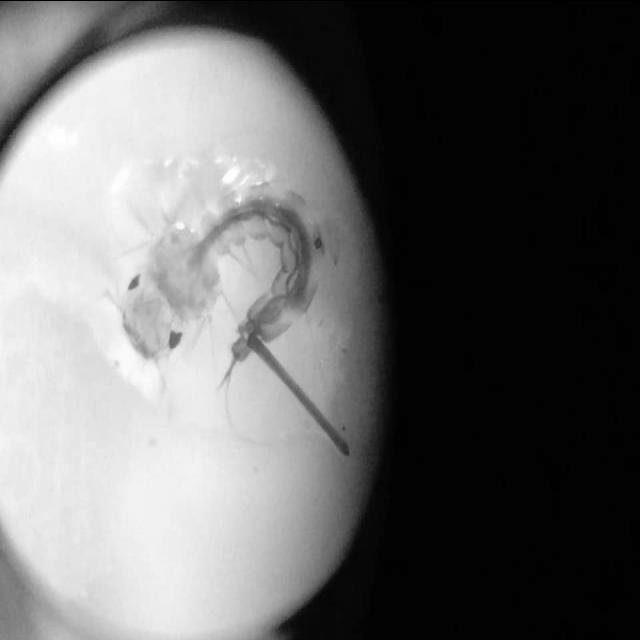larvas: (130, 187, 315, 375)
